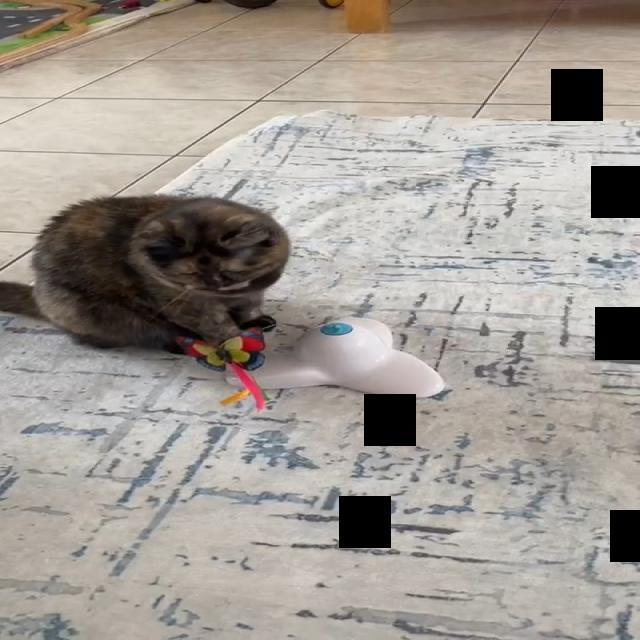authorized: (0, 192, 291, 355)
